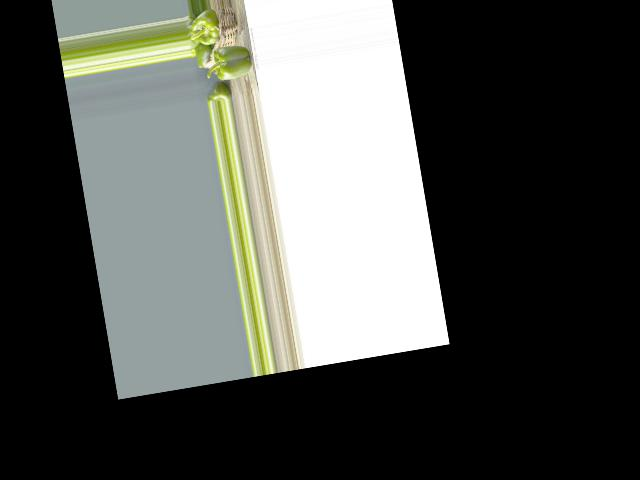bell_pepper: (205, 86, 228, 103)
